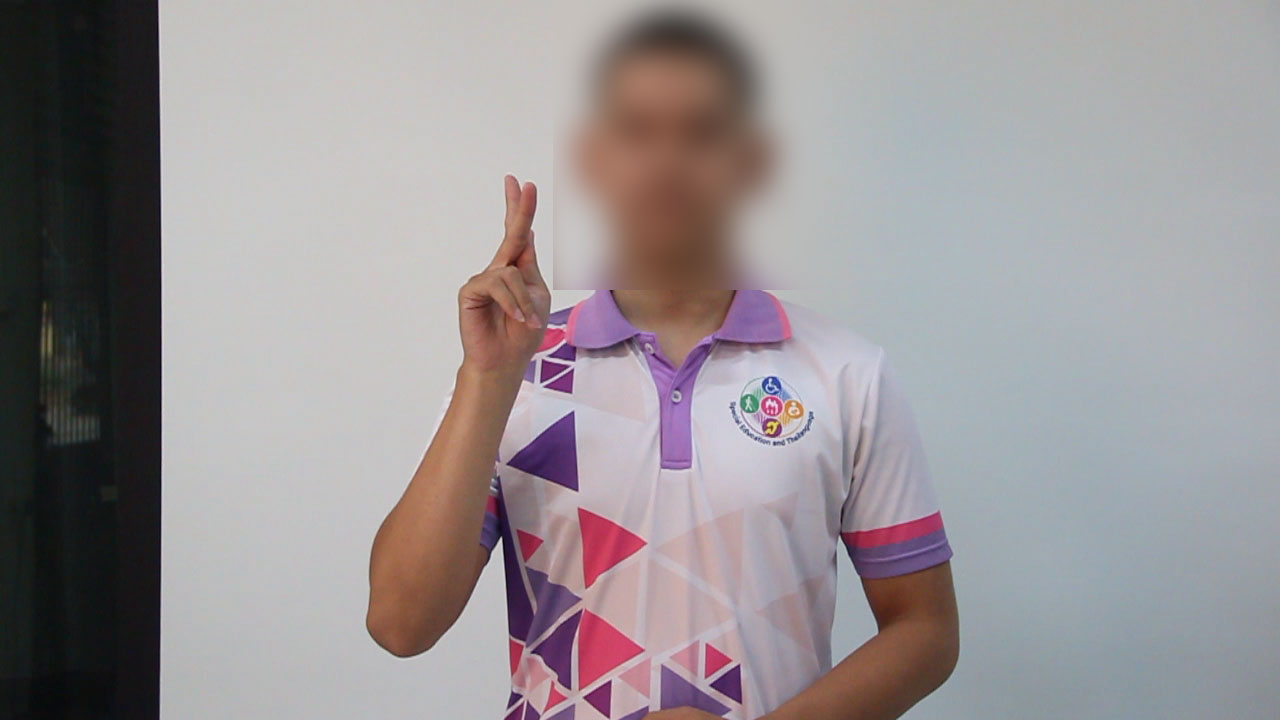ko: (422, 164, 574, 368)
